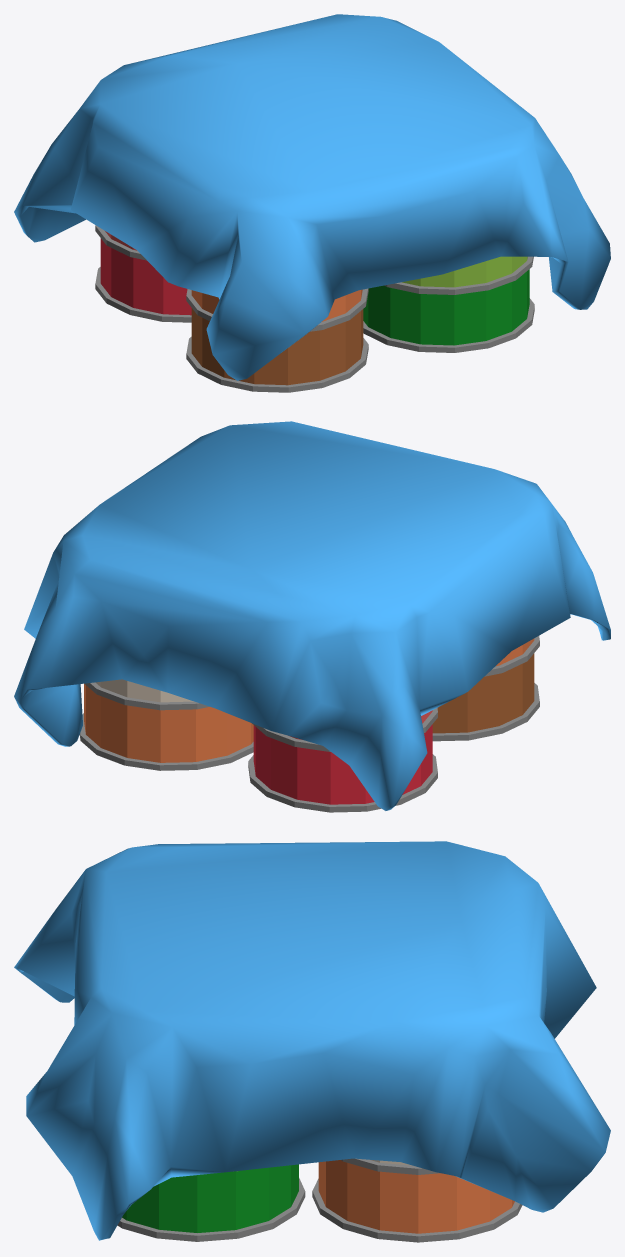
The model's file is Barrel_Covered_1.fbx.
The picture shows the model from 3 angles, top to bottom: view 1: azimuth 30°, elevation 25°; view 2: azimuth 150°, elevation 25°; view 3: azimuth 270°, elevation 25°; orthographic projection. The views are drawn at different scales.
Visible parts, largest first — view 1: Barrel_Covered_1; view 2: Barrel_Covered_1; view 3: Barrel_Covered_1.
Boxes of the visible parts, bbox=[...] form: Barrel_Covered_1: bbox=[14, 14, 610, 392]; Barrel_Covered_1: bbox=[14, 421, 610, 812]; Barrel_Covered_1: bbox=[14, 841, 610, 1242].
Bounding box in the file's own units: 208 × 91.86 × 219.
